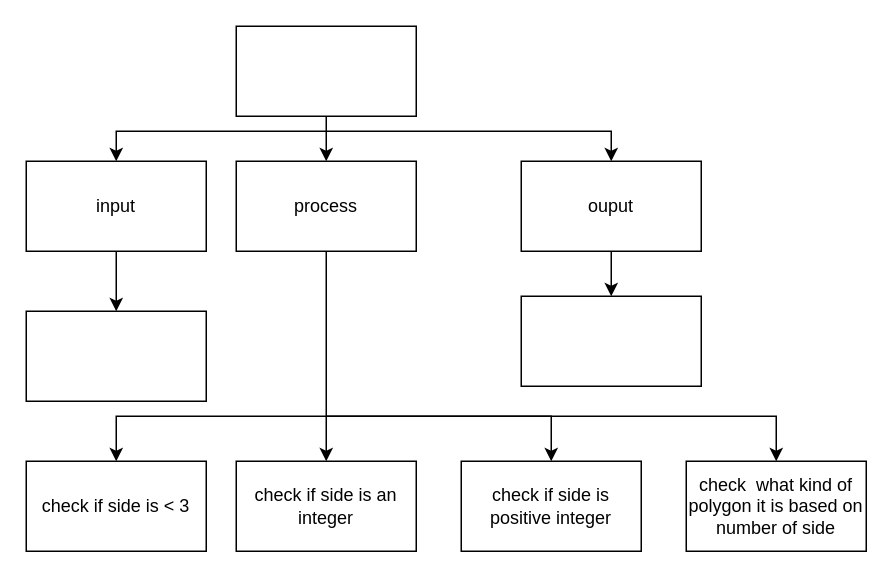
Image size: 893x578. Some labels were removed from this diagram. The centre of each missing label's shape, as x and y in pixels:
"get user side" goes at (115,355).
"polygon program" goes at (325,70).
"show answer" goes at (610,340).
